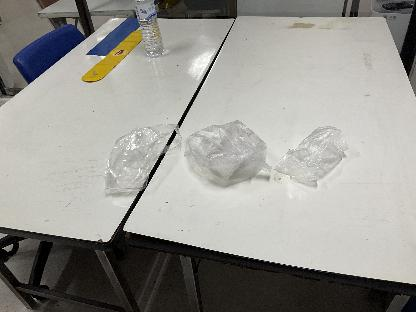Others: (178, 119, 274, 191), (93, 125, 183, 198), (268, 116, 356, 189)
